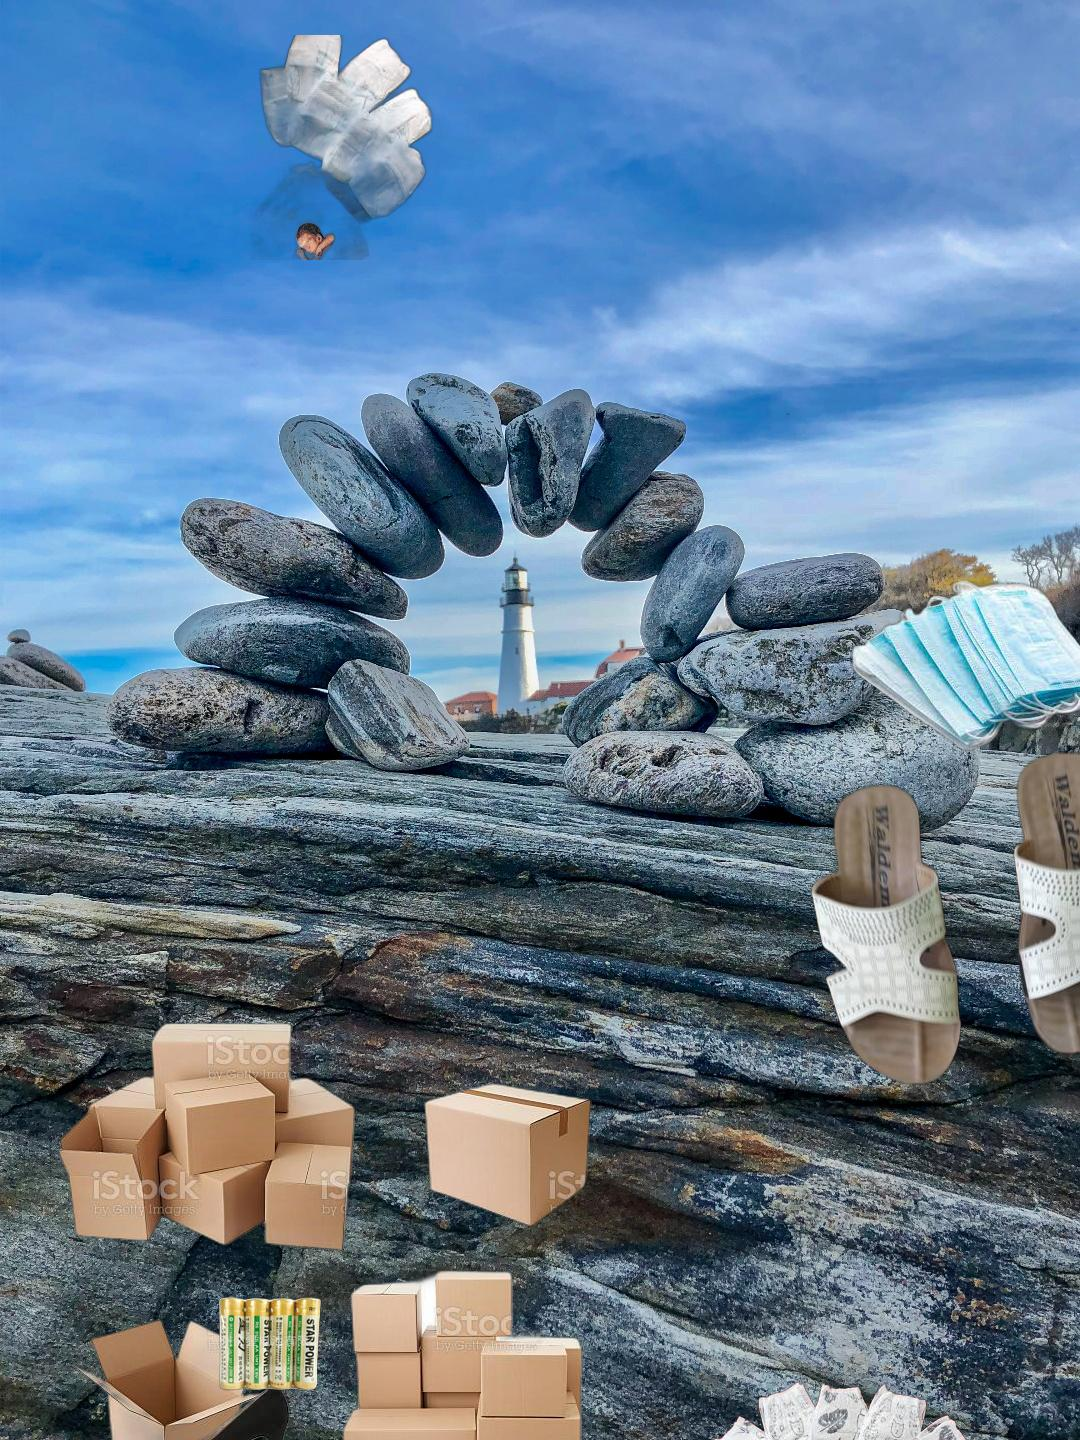battery: (216, 1267, 344, 1394)
paper-bag: (1052, 858, 1080, 977)
shoes: (808, 747, 1080, 1090), (134, 1381, 292, 1440)
trash: (228, 35, 444, 260), (847, 581, 1080, 753), (704, 1379, 980, 1440)
trashbox-cardboard: (52, 1018, 596, 1440)
